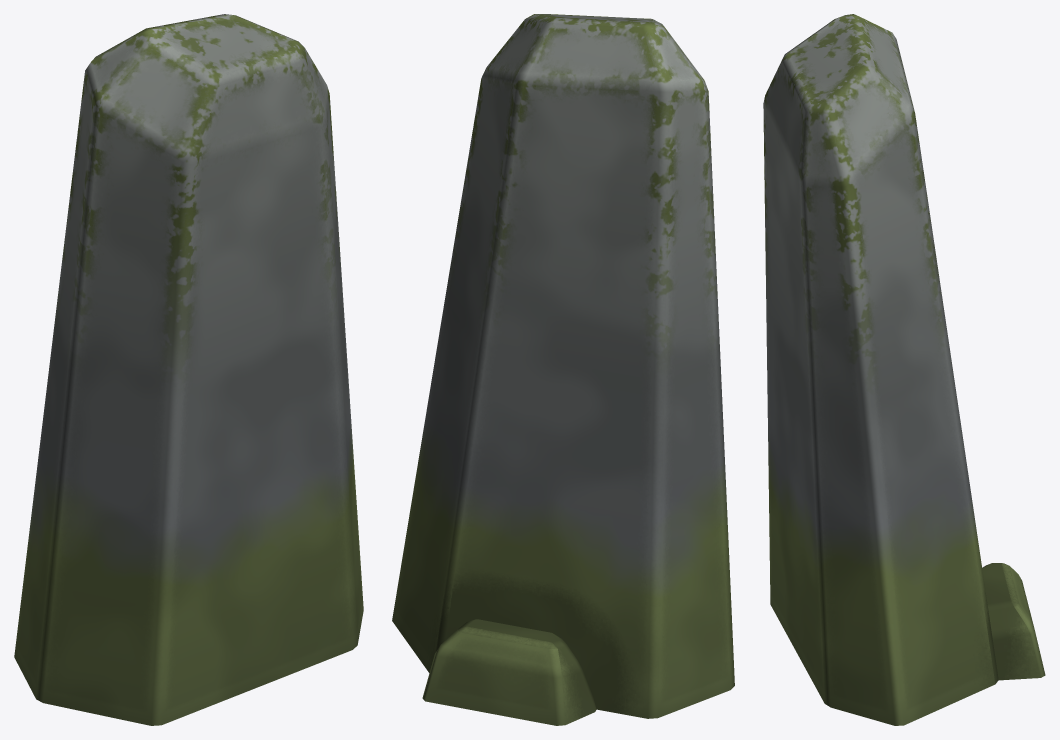
The model's file is standing_stone_1_mossy.glb.
The picture shows the model from 3 angles, left to right: view 1: azimuth 30°, elevation 25°; view 2: azimuth 150°, elevation 25°; view 3: azimuth 270°, elevation 25°; orthographic projection. The views are drawn at different scales.
Parts seen in each view (by area): view 1: standing_stone_1_mossy; view 2: standing_stone_1_mossy; view 3: standing_stone_1_mossy.
Boxes of the visible parts, x1,y1,x2,y2 form: standing_stone_1_mossy: [14, 14, 363, 725]; standing_stone_1_mossy: [392, 14, 734, 725]; standing_stone_1_mossy: [763, 14, 1045, 725].
Bounding box in the file's own units: 1.4 × 2.6 × 1.1.
1 material, 1 textured.
